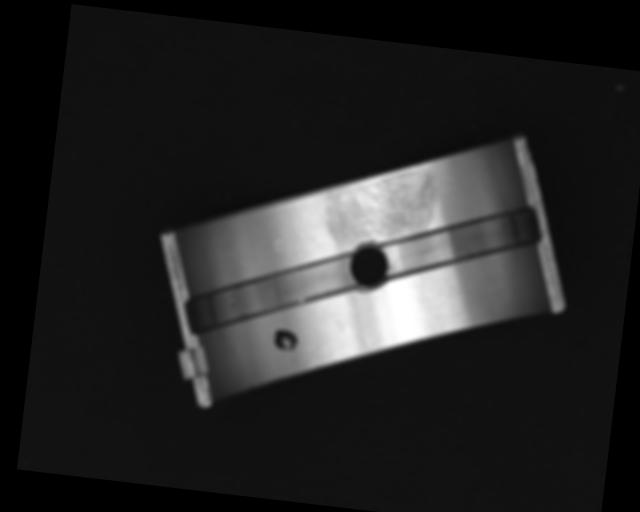blot: (271, 327, 301, 355)
bruise: (272, 238, 283, 254)
gap: (187, 236, 359, 347), (379, 192, 542, 290)
hole: (345, 240, 393, 293)
scratch: (324, 158, 441, 254)
